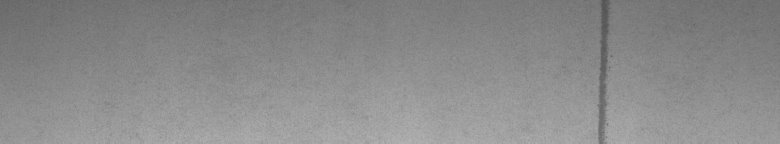hd: (593, 4, 613, 136)
